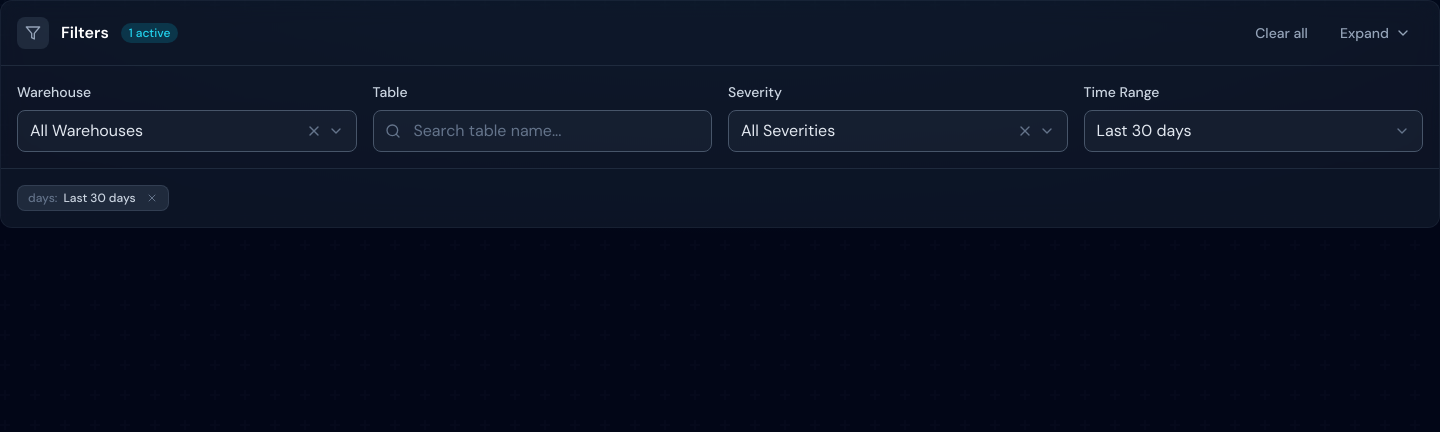
it: DriftFilters › applies preset filters
This screenshot has width=1440, height=432.
Click the button "Expand" at (1375, 33), box top-left (1328, 17), bottom-right (1423, 49)
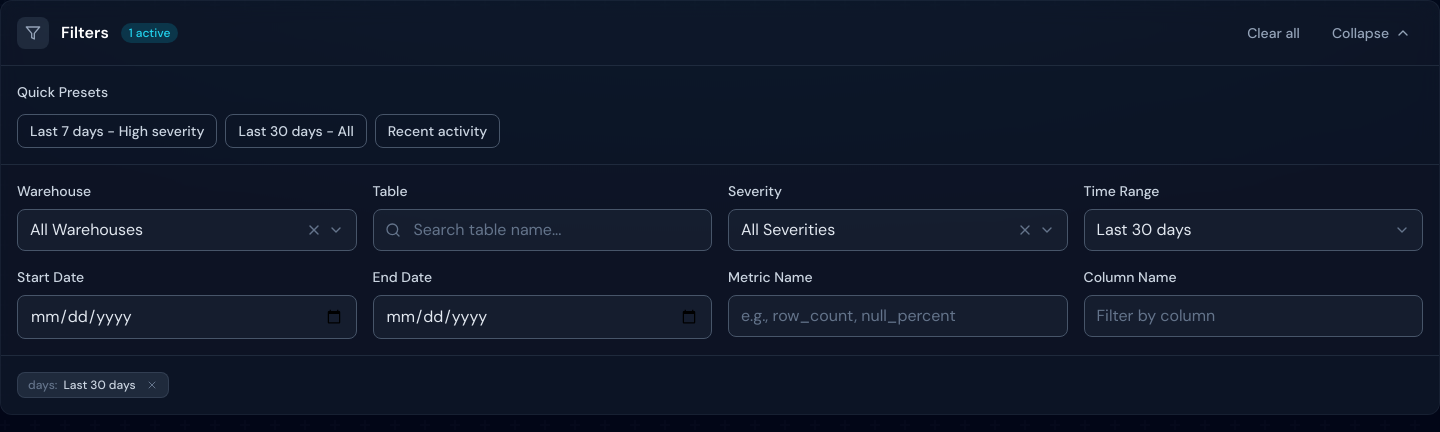
Expected: the text "Last 7 days - High severity" is shown, top-left (30, 121), bottom-right (204, 141)
